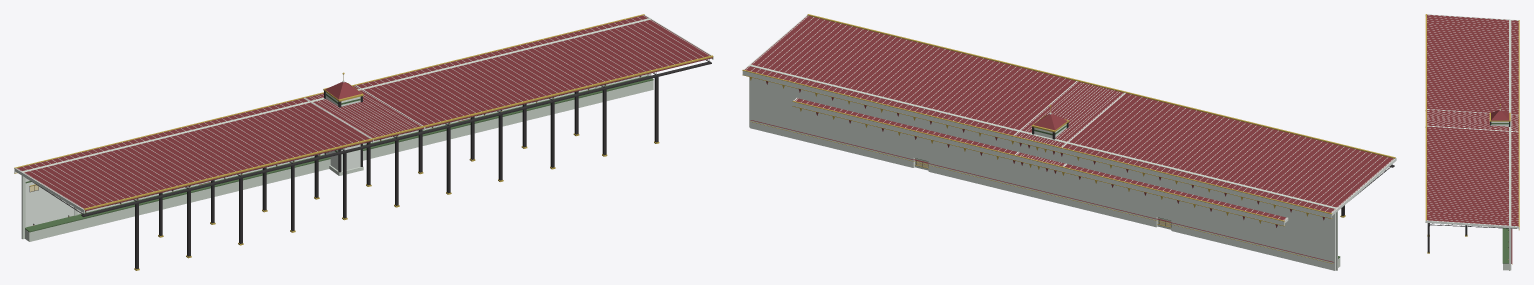
The model's file is downs-stand.glb.
The picture shows the model from 3 angles, left to right: view 1: azimuth 30°, elevation 25°; view 2: azimuth 150°, elevation 25°; view 3: azimuth 270°, elevation 25°; orthographic projection. The views are drawn at different scales.
Parts seen in each view (by area): view 1: dn_roof_barn, dn_roof_seam, dn_suites_mint2, dn_roof_black, dn_roof_gold, dn_roof_bay_barn, dn_suites_money2, dn_backwall_mint, dn_roof_s_black, dn_backwall_mint2, dn_tower_mint, dn_roof_bay_seam (+1 smaller); view 2: dn_roof_barn, dn_backwall_mint, dn_roof_seam, dn_roof_gold, dn_roof_mint, dn_roof_bay_barn, dn_roof_s_barn, dn_roof_s_mint, dn_backwall_mint2, dn_roof_s_gold, dn_suites_barn, dn_suites_gold (+2 smaller); view 3: dn_roof_barn, dn_roof_seam, dn_roof_bay_barn, dn_roof_gold, dn_backwall_mint2, dn_roof_mint, dn_roof_bay_seam, dn_suites_money2, dn_roof_black, dn_roof_bay_mint, dn_tower_barn, dn_backwall_mint (+3 smaller).
Part boxes in pixels (x1,y1,x2,y2): dn_roof_barn: [17, 15, 712, 211]; dn_roof_seam: [17, 15, 709, 208]; dn_suites_mint2: [25, 80, 653, 241]; dn_roof_black: [26, 59, 711, 269]; dn_roof_gold: [14, 14, 713, 270]; dn_roof_bay_barn: [305, 86, 424, 140]; dn_suites_money2: [25, 75, 653, 232]; dn_backwall_mint: [25, 74, 647, 227]; dn_roof_s_black: [108, 78, 630, 235]; dn_backwall_mint2: [21, 18, 651, 239]; dn_tower_mint: [326, 80, 360, 171]; dn_roof_bay_seam: [305, 86, 420, 138]; dn_roof_barn: [745, 15, 1393, 220]; dn_backwall_mint: [750, 77, 1335, 270]; dn_roof_seam: [746, 15, 1393, 212]; dn_roof_gold: [742, 14, 1395, 218]; dn_roof_mint: [742, 15, 1396, 218]; dn_roof_bay_barn: [1014, 81, 1123, 154]; dn_roof_s_barn: [795, 98, 1286, 227]; dn_roof_s_mint: [792, 98, 1288, 225]; dn_backwall_mint2: [749, 64, 1337, 270]; dn_roof_s_gold: [792, 101, 1285, 226]; dn_suites_barn: [750, 120, 1333, 262]; dn_suites_gold: [750, 121, 1333, 263]; dn_roof_barn: [1427, 14, 1518, 226]; dn_roof_seam: [1427, 15, 1518, 226]; dn_roof_bay_barn: [1427, 109, 1518, 131]; dn_roof_gold: [1425, 14, 1519, 253]; dn_backwall_mint2: [1509, 20, 1511, 270]; dn_roof_mint: [1425, 14, 1519, 229]; dn_roof_bay_seam: [1427, 109, 1517, 131]; dn_suites_money2: [1502, 227, 1508, 263]; dn_roof_black: [1427, 223, 1516, 252]; dn_roof_bay_mint: [1425, 109, 1518, 131]; dn_tower_barn: [1491, 110, 1509, 120]; dn_backwall_mint: [1510, 228, 1511, 270].
Size of the model in its own units: 230 by 33.16 by 44.34.
